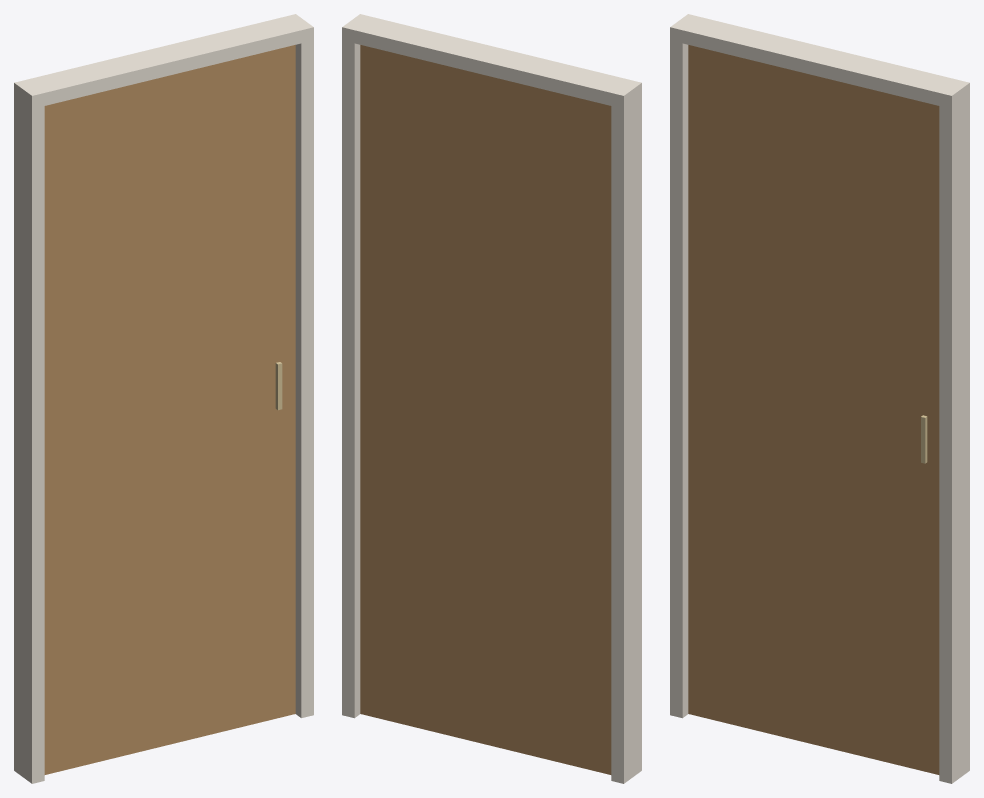
The model's file is porta_90.obj.
3 views of the same model, side by side, from view 1: azimuth 30°, elevation 25°; view 2: azimuth 150°, elevation 25°; view 3: azimuth 330°, elevation 25° (orthographic).
Parts seen in each view (by area): view 1: porta_90; view 2: porta_90; view 3: porta_90.
Part boxes in pixels (<box>): porta_90: <box>14,14,313,783</box>; porta_90: <box>342,14,641,783</box>; porta_90: <box>670,14,969,783</box>.
Bounding box in the file's own units: 0.9 × 2.1 × 0.1.
